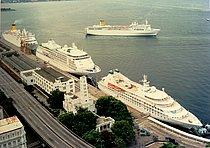Ship: (95, 65, 206, 133), (35, 38, 104, 79)
